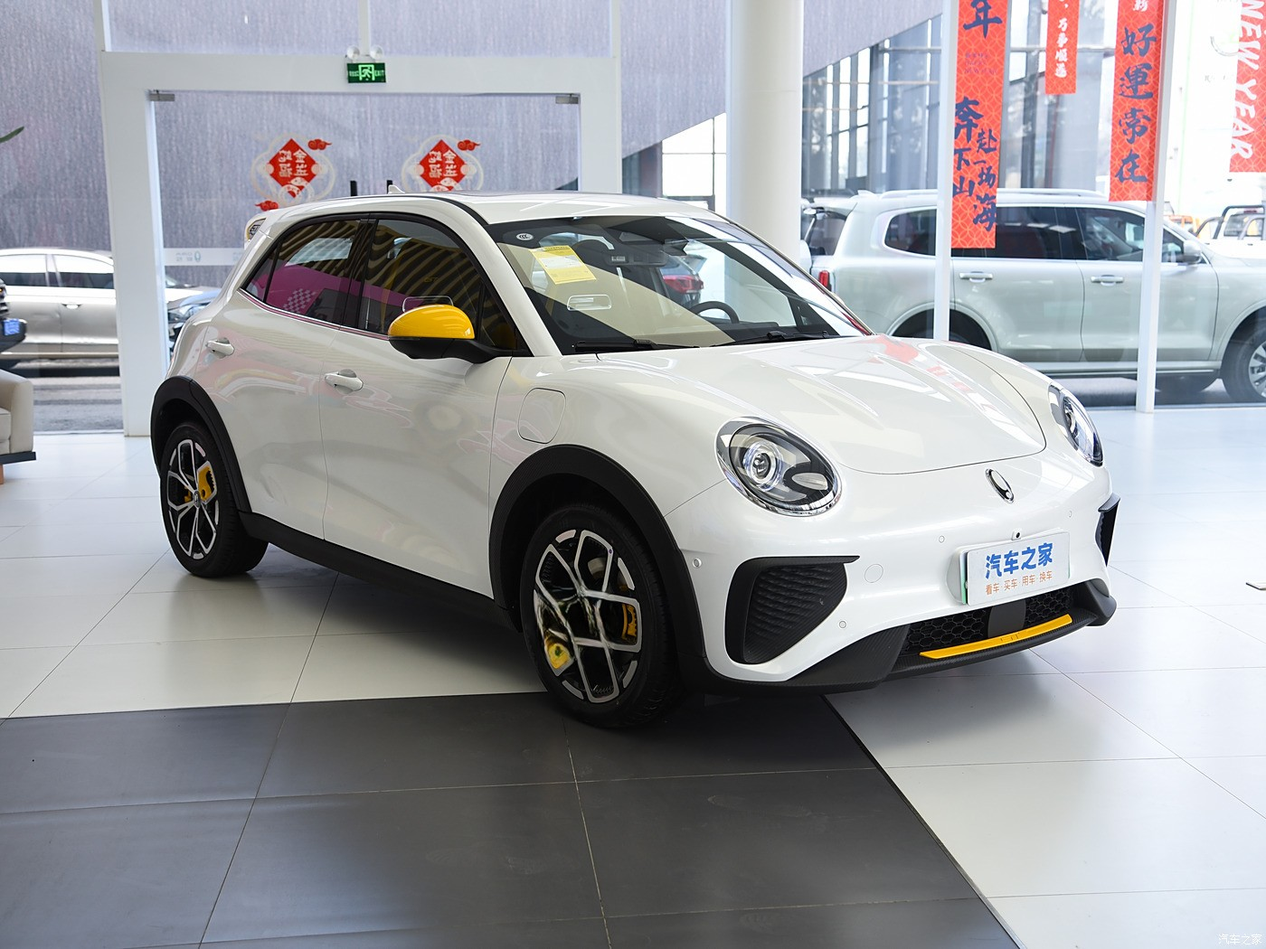ORA: (986, 469, 1015, 503)
